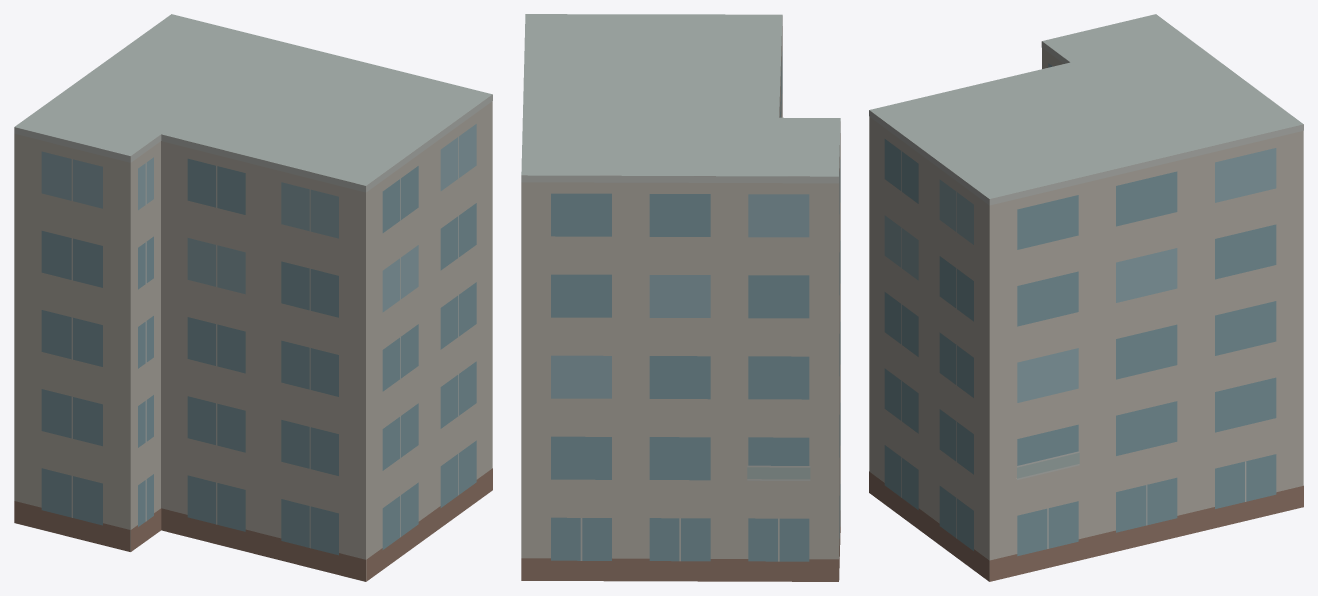
File: survey-upis-32993609.glb
3 renders of one model, left to right at view 1: azimuth 30°, elevation 25°; view 2: azimuth 150°, elevation 25°; view 3: azimuth 270°, elevation 25°, orthographic. The views are drawn at different scales.
Visible parts, largest first — view 1: survey-upis-32993609.tmp; view 2: survey-upis-32993609.tmp; view 3: survey-upis-32993609.tmp.
Part boxes in pixels (left/top/right/bottom): survey-upis-32993609.tmp: left=14, top=14, right=492, bottom=581; survey-upis-32993609.tmp: left=521, top=14, right=840, bottom=581; survey-upis-32993609.tmp: left=869, top=14, right=1303, bottom=581.
Bounding box in the file's own units: 15.1 × 14.55 × 14.98.
